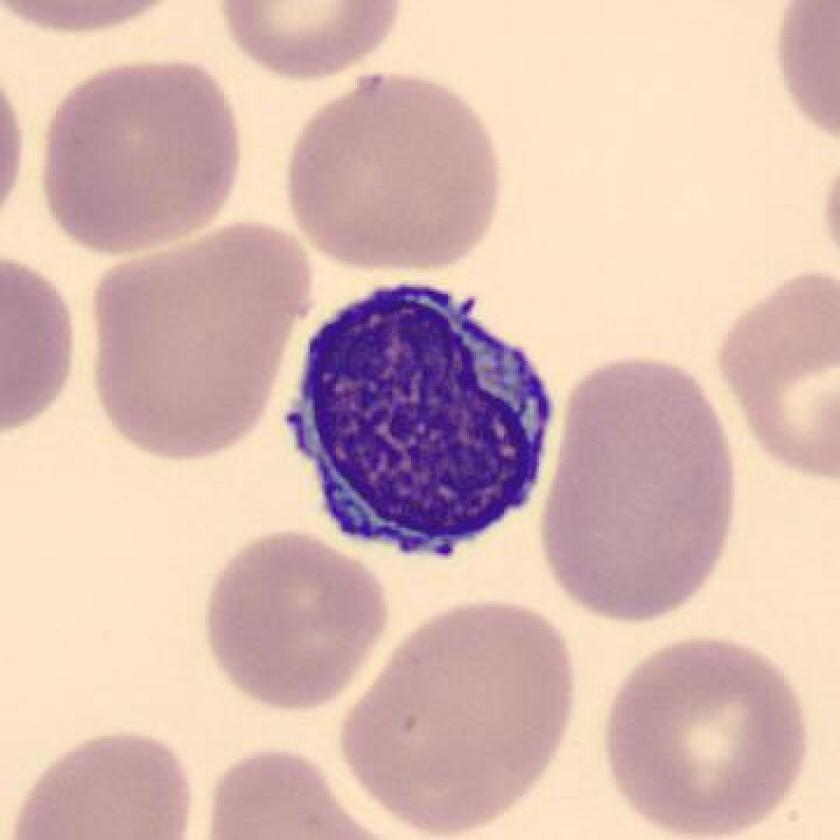lymphocyte: (267, 274, 573, 568)
